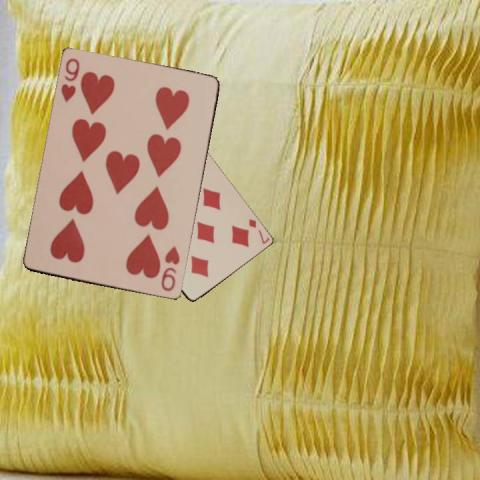7d: (245, 216, 271, 246)
9h: (158, 243, 181, 294), (58, 55, 81, 105)
